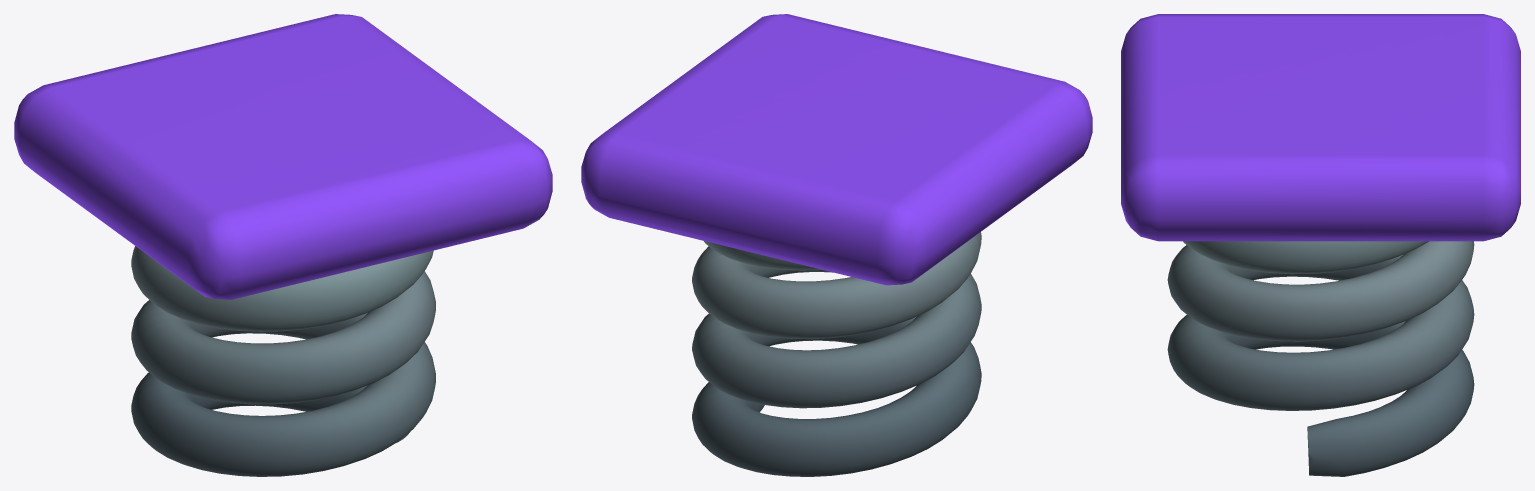
Rendered from JumpSpring.fbx.
3 views of the same model, side by side, from view 1: azimuth 30°, elevation 25°; view 2: azimuth 150°, elevation 25°; view 3: azimuth 270°, elevation 25° (orthographic). The views are drawn at different scales.
Visible parts, largest first — view 1: Cube.030, uploads_files_6113578_Spring; view 2: Cube.030, uploads_files_6113578_Spring; view 3: Cube.030, uploads_files_6113578_Spring.
Boxes of the visible parts, x1,y1,x2,y2 form: Cube.030: [14, 14, 552, 299]; uploads_files_6113578_Spring: [131, 246, 435, 476]; Cube.030: [581, 14, 1092, 285]; uploads_files_6113578_Spring: [692, 232, 981, 476]; Cube.030: [1121, 14, 1520, 241]; uploads_files_6113578_Spring: [1167, 241, 1474, 476].
Size of the model in its own units: 2.05 by 1.93 by 2.05.
